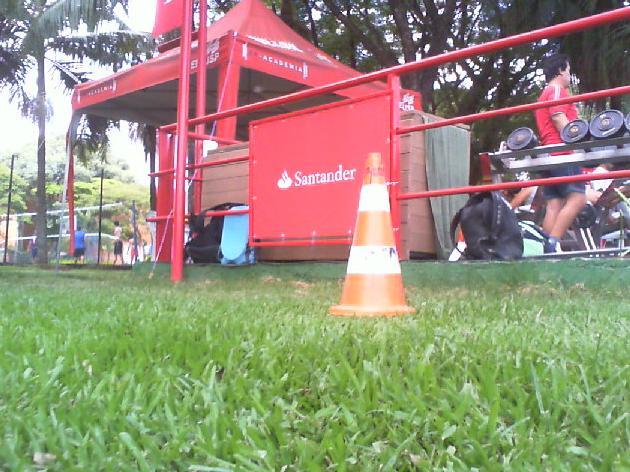0 cone: (327, 153, 415, 317)
